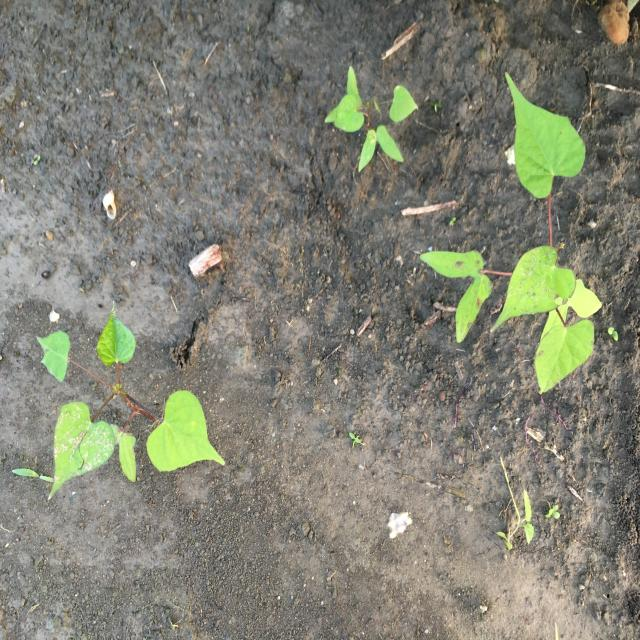MorningGlory: (417, 71, 603, 395), (35, 305, 227, 501), (324, 64, 419, 173)
